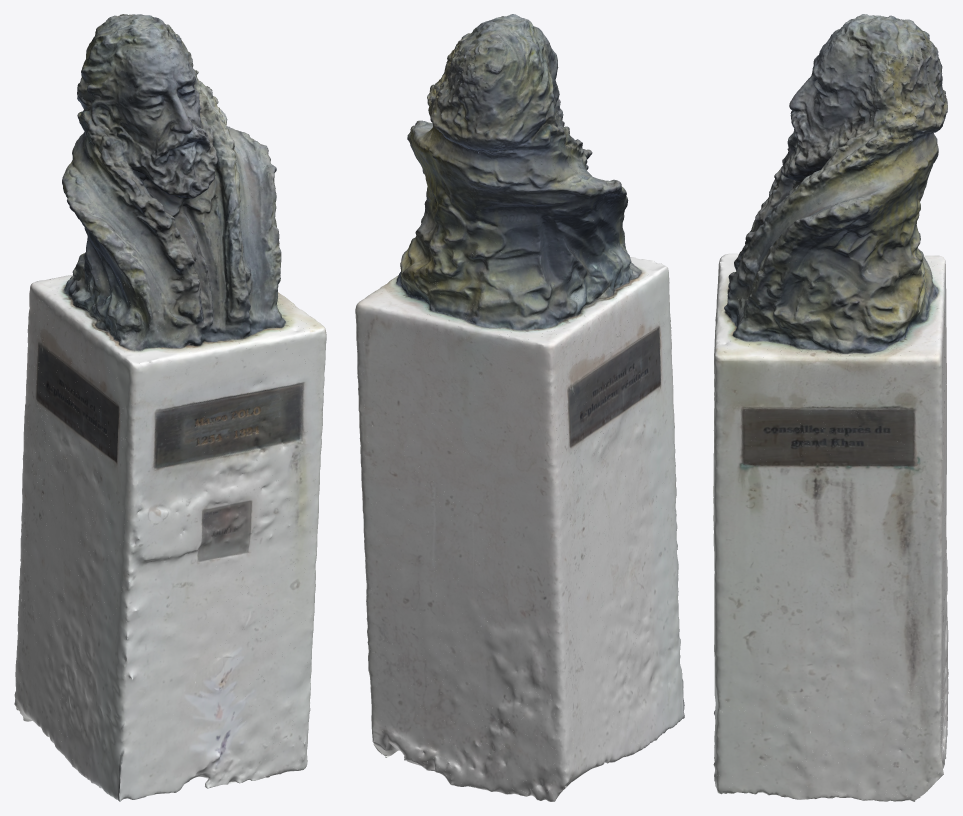
Rendered from marco-polo-bust-transformed.glb.
3 renders of one model, left to right at view 1: azimuth 30°, elevation 25°; view 2: azimuth 150°, elevation 25°; view 3: azimuth 270°, elevation 25°, orthographic. The views are drawn at different scales.
Visible parts, largest first — view 1: model_2, model_3, model_0, model_1; view 2: model_2, model_1, model_3, model_0; view 3: model_2, model_1, model_0, model_3.
Part boxes in pixels (box(x1,y1,x2,y2)): model_2: box(22, 14, 322, 778); model_3: box(14, 128, 326, 801); model_0: box(14, 14, 314, 788); model_1: box(15, 14, 325, 692); model_2: box(357, 16, 677, 766); model_1: box(355, 15, 644, 788); model_3: box(356, 102, 684, 799); model_0: box(368, 14, 625, 801); model_2: box(713, 15, 947, 796); model_1: box(715, 14, 948, 710); model_0: box(713, 14, 946, 801); model_3: box(713, 131, 948, 801).
Bounding box in the file's own units: 6.64 × 21.43 × 6.22.
1 material, 1 textured.
